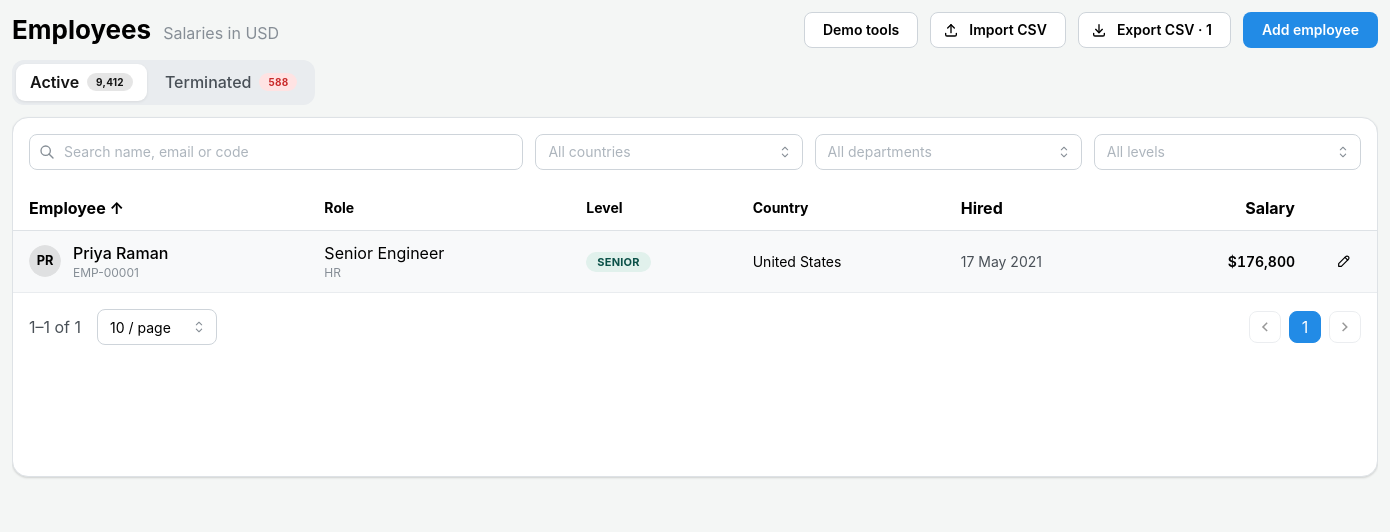
Test case: EmployeesPage › puts the search text in the URL once typing pauses
Expected: the text "Priya Raman" is shown, x1=73 y1=241 x2=168 y2=265
Type "priya" into the search field labelled "Search". click: coordinates (276, 152)
box: x1=29 y1=134 x2=523 y2=170
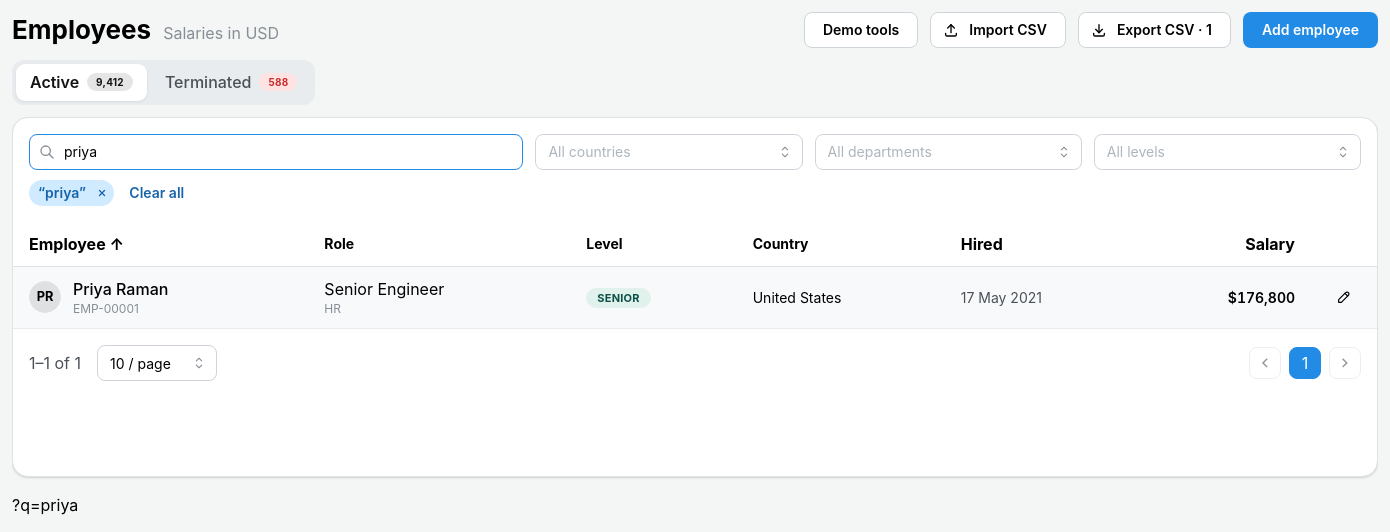
Expected: the text with test id "search" reads "?q=priya", x1=12 y1=495 x2=78 y2=515
